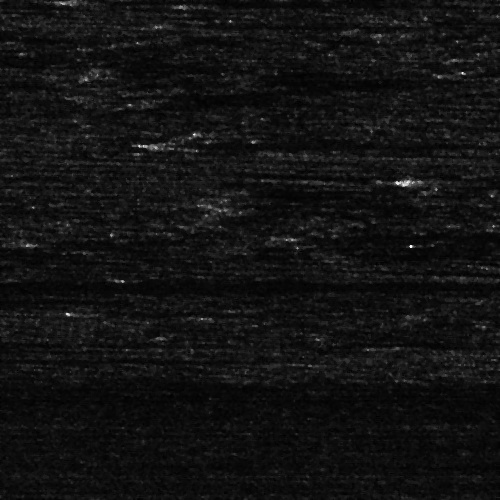object: (131, 138, 194, 149), (133, 20, 226, 27), (186, 3, 249, 6), (61, 0, 134, 1)
shadow: (0, 276, 350, 293), (163, 138, 422, 149), (0, 355, 211, 364), (180, 20, 352, 27), (218, 3, 479, 6), (97, 0, 436, 1)
